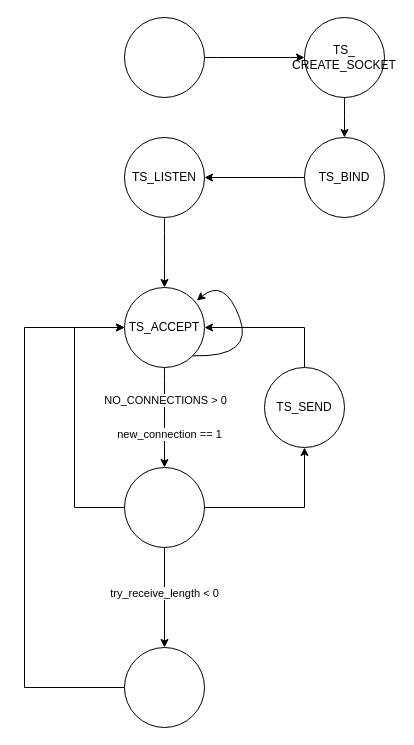
Image size: 414x745. Some labels were removed from this diagram. The shapes that lost their labels are listed below. From the top down, each one's centre as x and y in pixels, then its label:
At pixel 164 57: "TS_INIT".
At pixel 164 507: "TS_RECEIVE".
At pixel 164 687: "TS_CLOSE".
